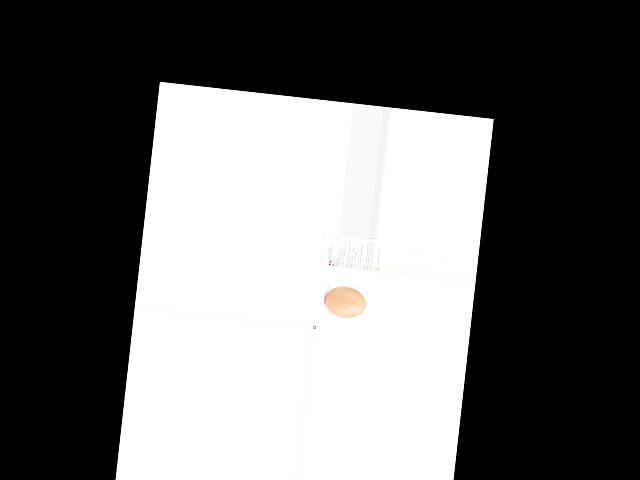egg: (323, 284, 367, 319)
